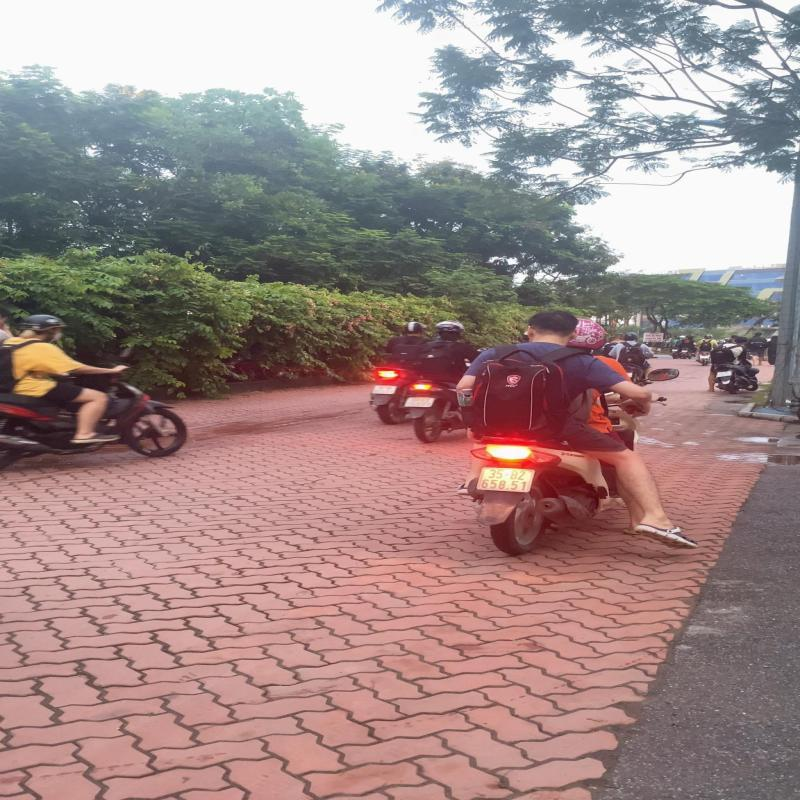helmet: (566, 316, 608, 347)
licenseplate: (473, 465, 538, 493)
motorcyclist: (452, 308, 702, 556)
nohelmet: (526, 309, 578, 340)
